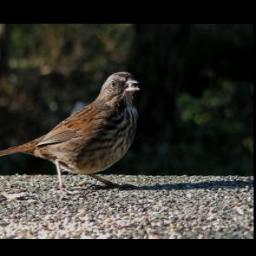Sparrow: (0, 67, 144, 196)
